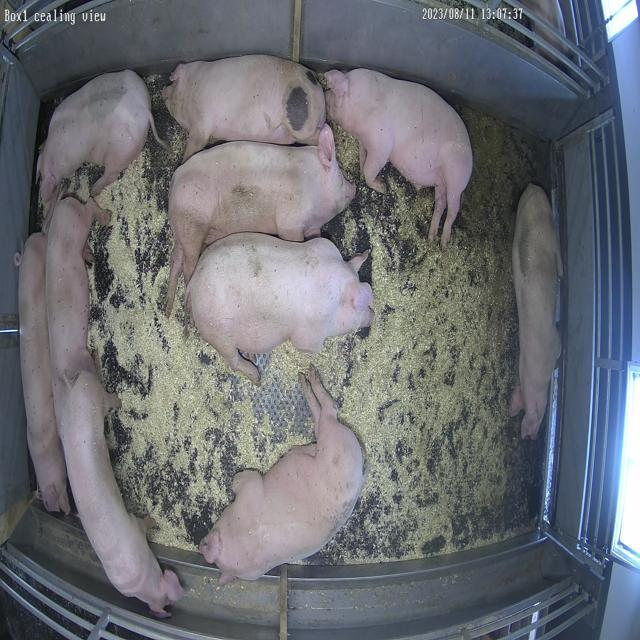Dirt: (453, 106, 542, 276)
Pig: (166, 124, 356, 316), (199, 370, 364, 584), (57, 371, 182, 618), (187, 233, 374, 384), (328, 68, 473, 248), (37, 69, 160, 222), (163, 54, 326, 158), (18, 233, 70, 514), (510, 184, 563, 440), (45, 197, 96, 410)
